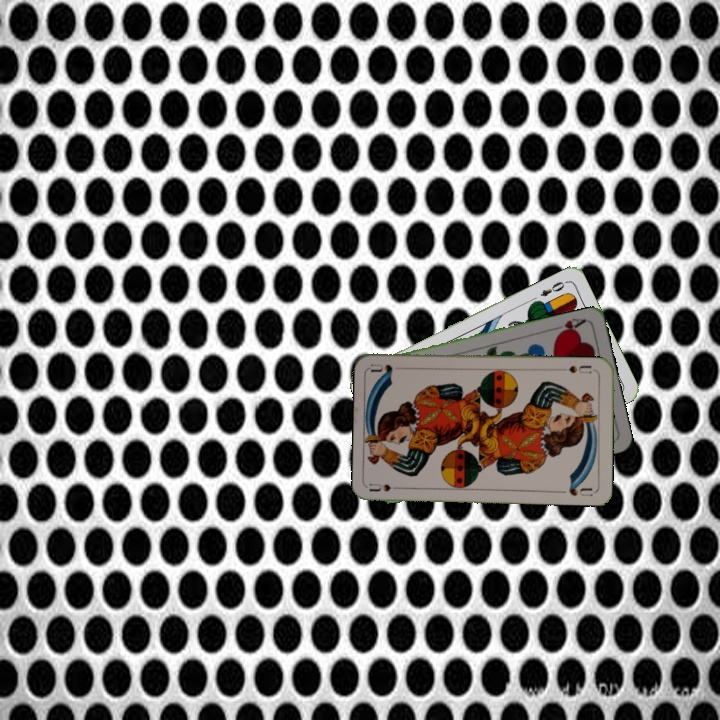EO: (536, 277, 570, 299)
HA: (549, 314, 589, 338)
SU: (558, 361, 598, 376), (367, 479, 407, 494)
